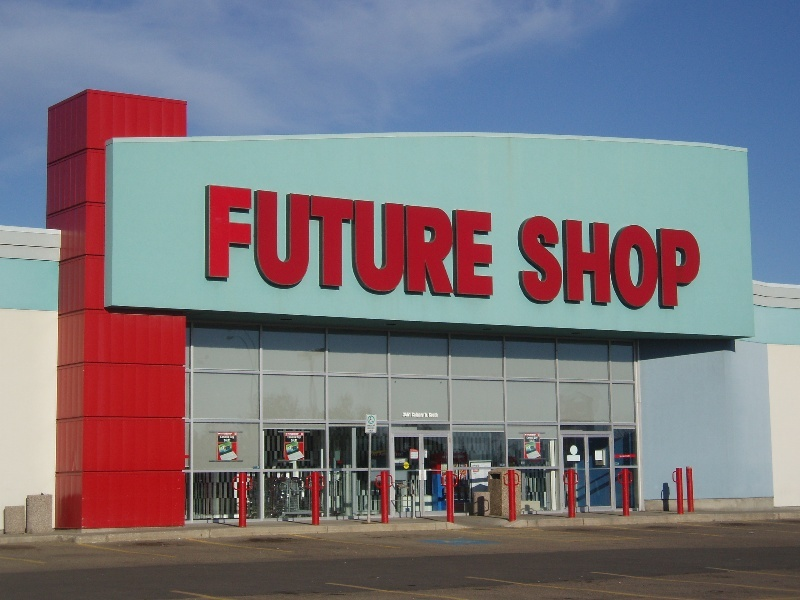text: (209, 182, 224, 301), (225, 182, 240, 301), (241, 182, 256, 301), (257, 182, 272, 301), (273, 182, 288, 301), (289, 182, 304, 301), (305, 182, 320, 301), (321, 182, 336, 301), (337, 182, 352, 301), (353, 182, 368, 301), (369, 182, 384, 301), (385, 182, 400, 301), (401, 182, 416, 301), (417, 182, 432, 301), (433, 182, 448, 301), (449, 182, 464, 301), (465, 182, 480, 301), (481, 182, 495, 301), (529, 214, 544, 313), (545, 214, 560, 313), (561, 214, 576, 313), (577, 214, 592, 313), (593, 214, 608, 313), (609, 214, 624, 313), (625, 214, 640, 313), (641, 214, 656, 313), (657, 214, 672, 313), (673, 214, 688, 313), (689, 214, 701, 313), (517, 214, 528, 313), (203, 182, 208, 301), (403, 412, 416, 418), (369, 425, 376, 433), (530, 440, 544, 443), (424, 413, 432, 418), (230, 436, 240, 440), (291, 439, 304, 442), (417, 413, 424, 418), (534, 437, 544, 440), (297, 436, 304, 440), (457, 455, 464, 459), (433, 413, 438, 418), (225, 439, 231, 443), (289, 436, 297, 439), (412, 413, 416, 418), (529, 436, 534, 440), (429, 413, 432, 418), (225, 436, 230, 439), (220, 436, 224, 439), (367, 425, 368, 433), (526, 436, 528, 440), (223, 439, 224, 443), (465, 455, 466, 459), (287, 436, 288, 439)
